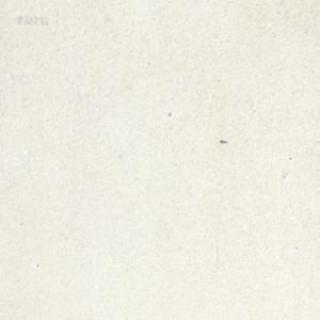Nailtrack_idkeyframe: (219, 138, 226, 143)
